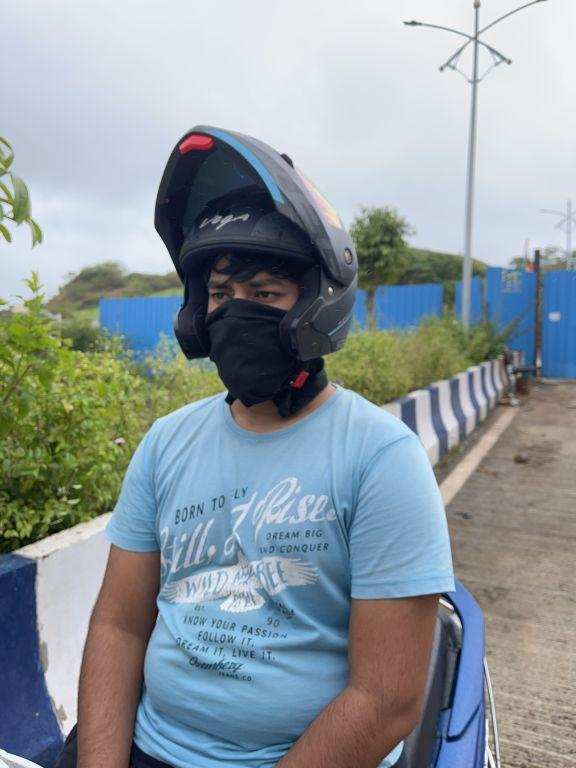helmet: (145, 112, 368, 407)
